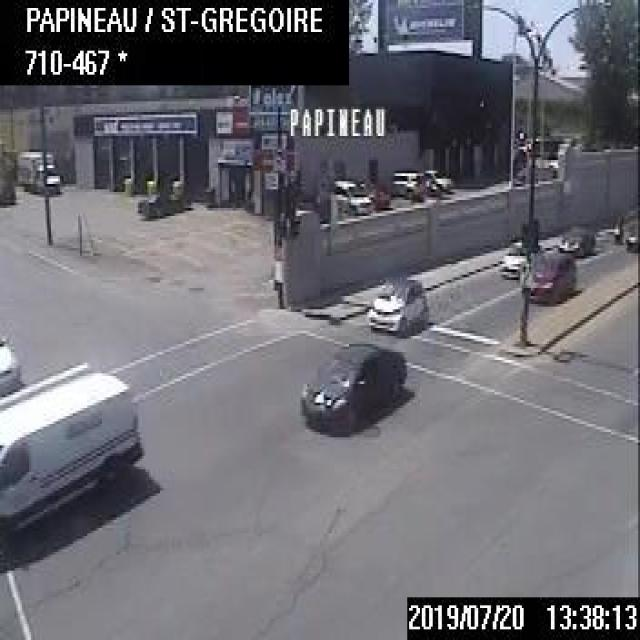pedestrian: (271, 253, 284, 307)
vehicle: (0, 356, 144, 537), (298, 339, 407, 429), (367, 275, 429, 336), (518, 245, 575, 301), (14, 147, 61, 199), (326, 175, 374, 215), (133, 186, 188, 218), (556, 220, 597, 259), (0, 336, 24, 397), (389, 168, 425, 199), (498, 240, 523, 278), (356, 178, 388, 205), (422, 165, 452, 192)
